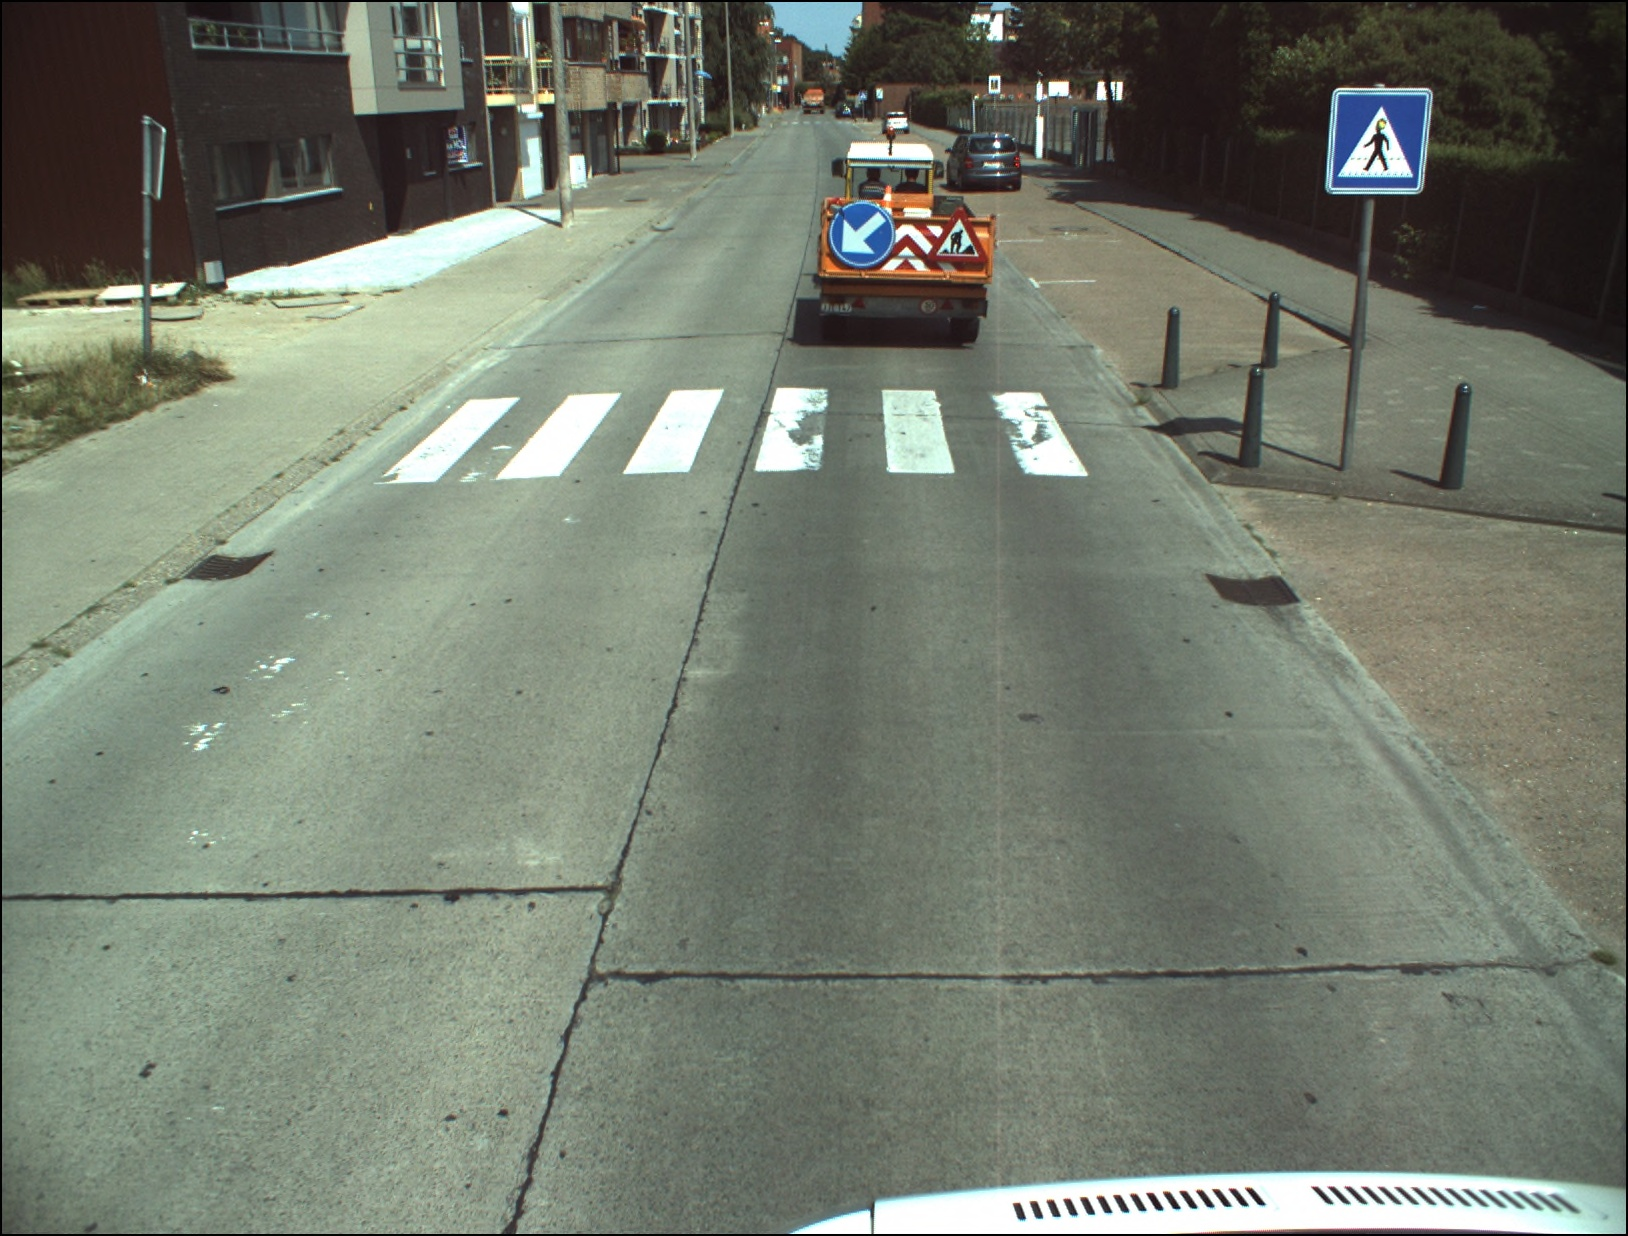construction: (925, 209, 988, 262)
passleft: (830, 202, 894, 266)
pedestrian: (1325, 92, 1430, 197)
